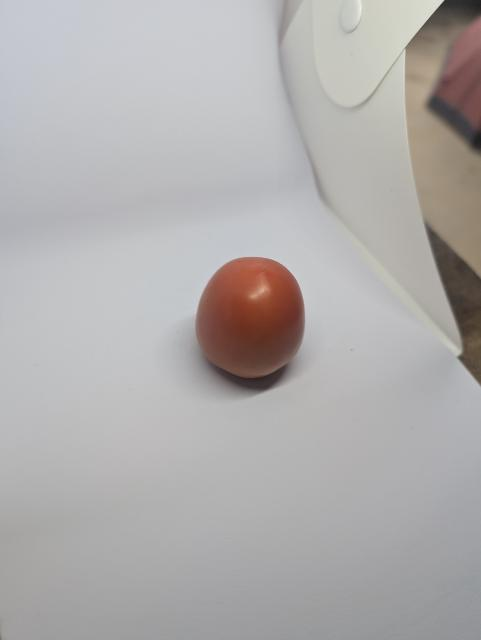red: (190, 250, 325, 394)
